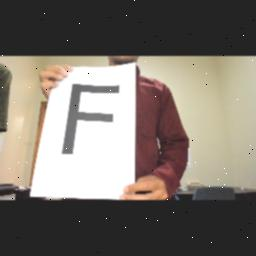f: (58, 80, 124, 162)
